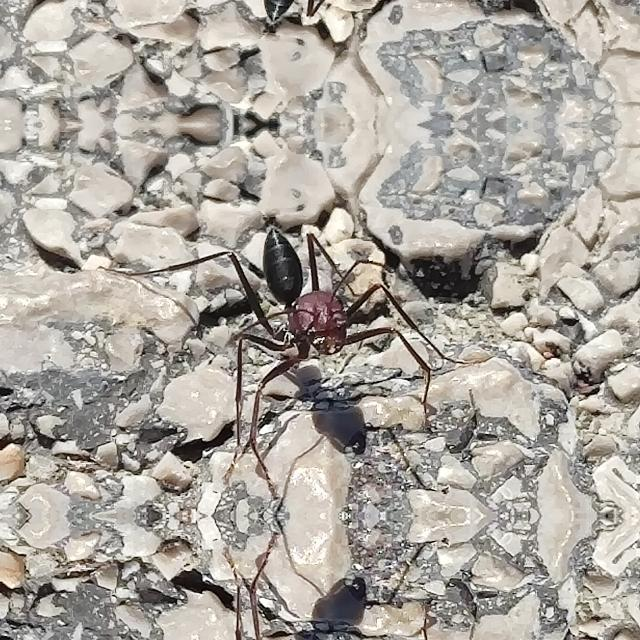Cataglyphis: (207, 218, 411, 372)
